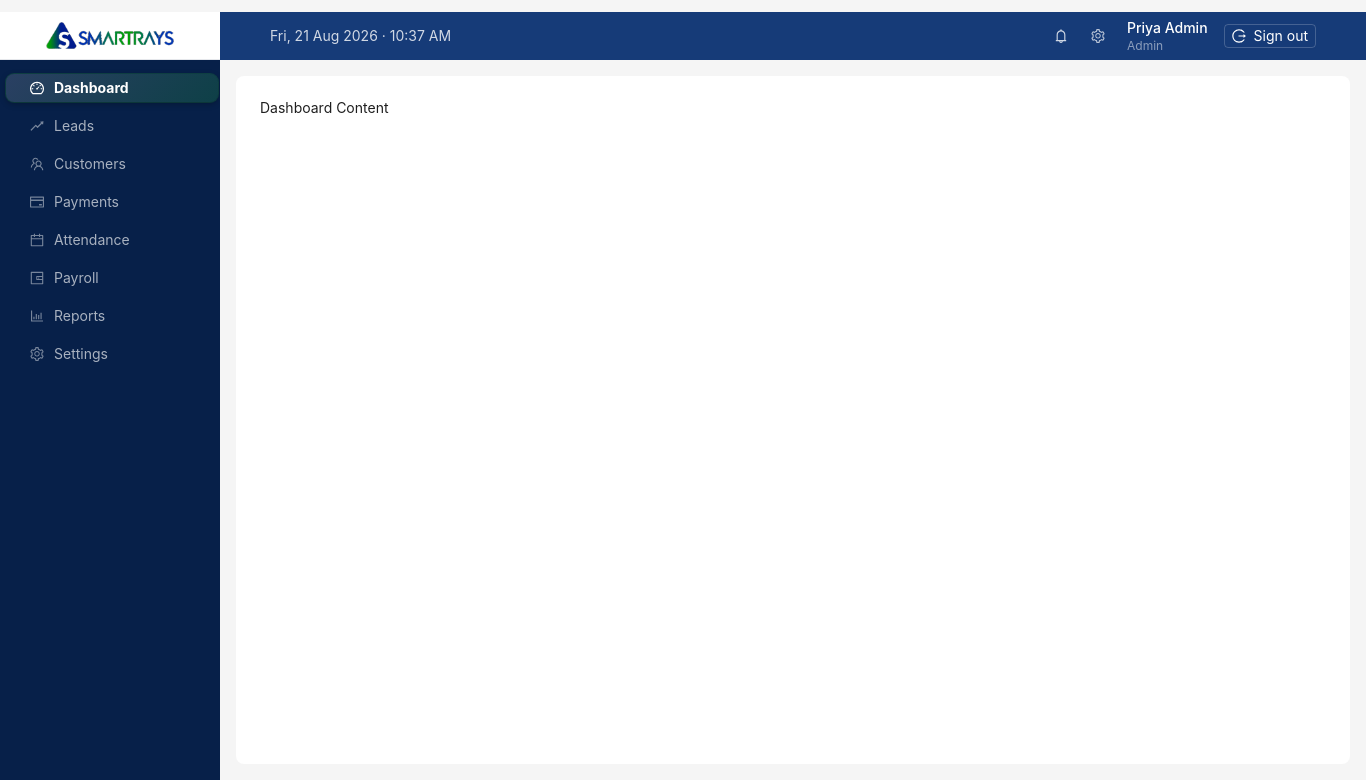
Test: MainLayout — mobile hamburger auto-closes on route change › does not force-collapse the desktop sidebar on navigation (matches: false)
The width and height of the screenshot is (1366, 780).
Click the link "Leads": (74, 126) [54, 117, 94, 134]
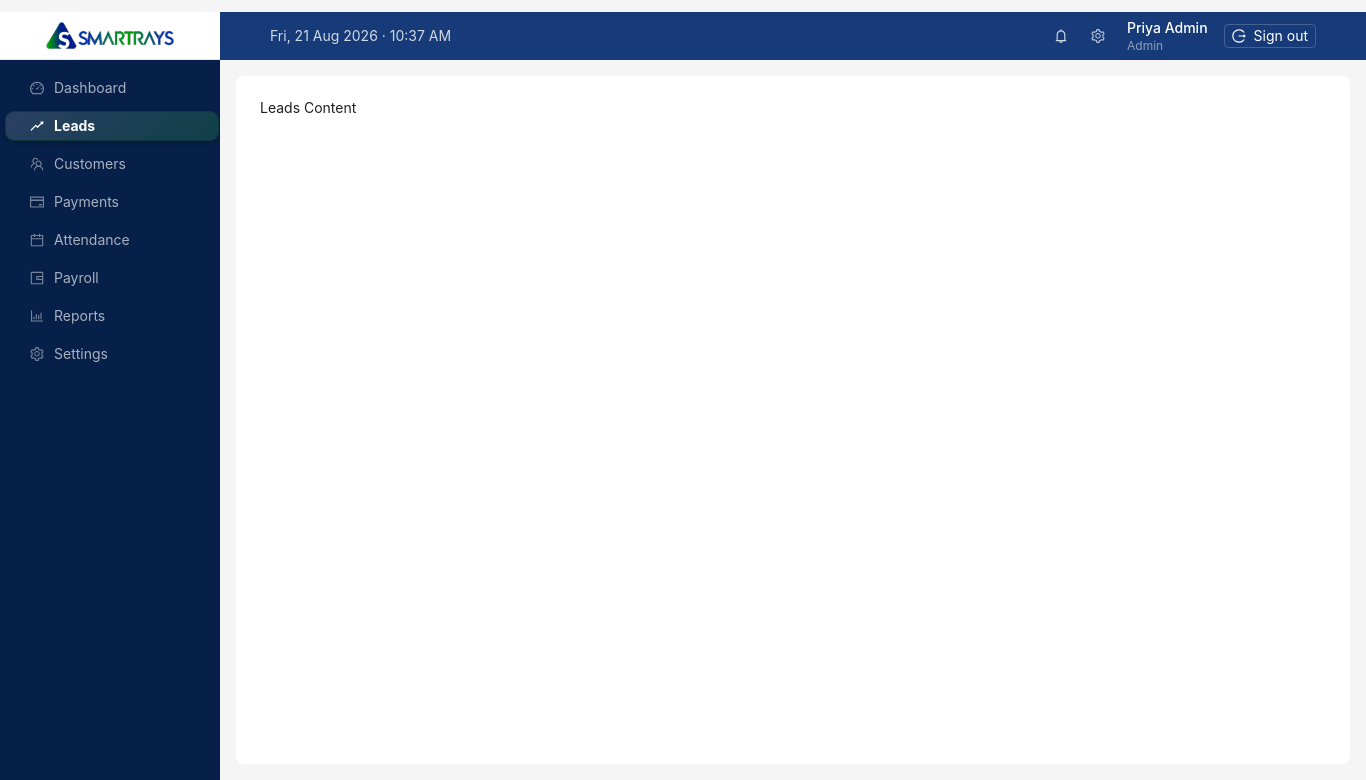
Expected: the text "Leads Content" is shown, [260, 99, 356, 116]
